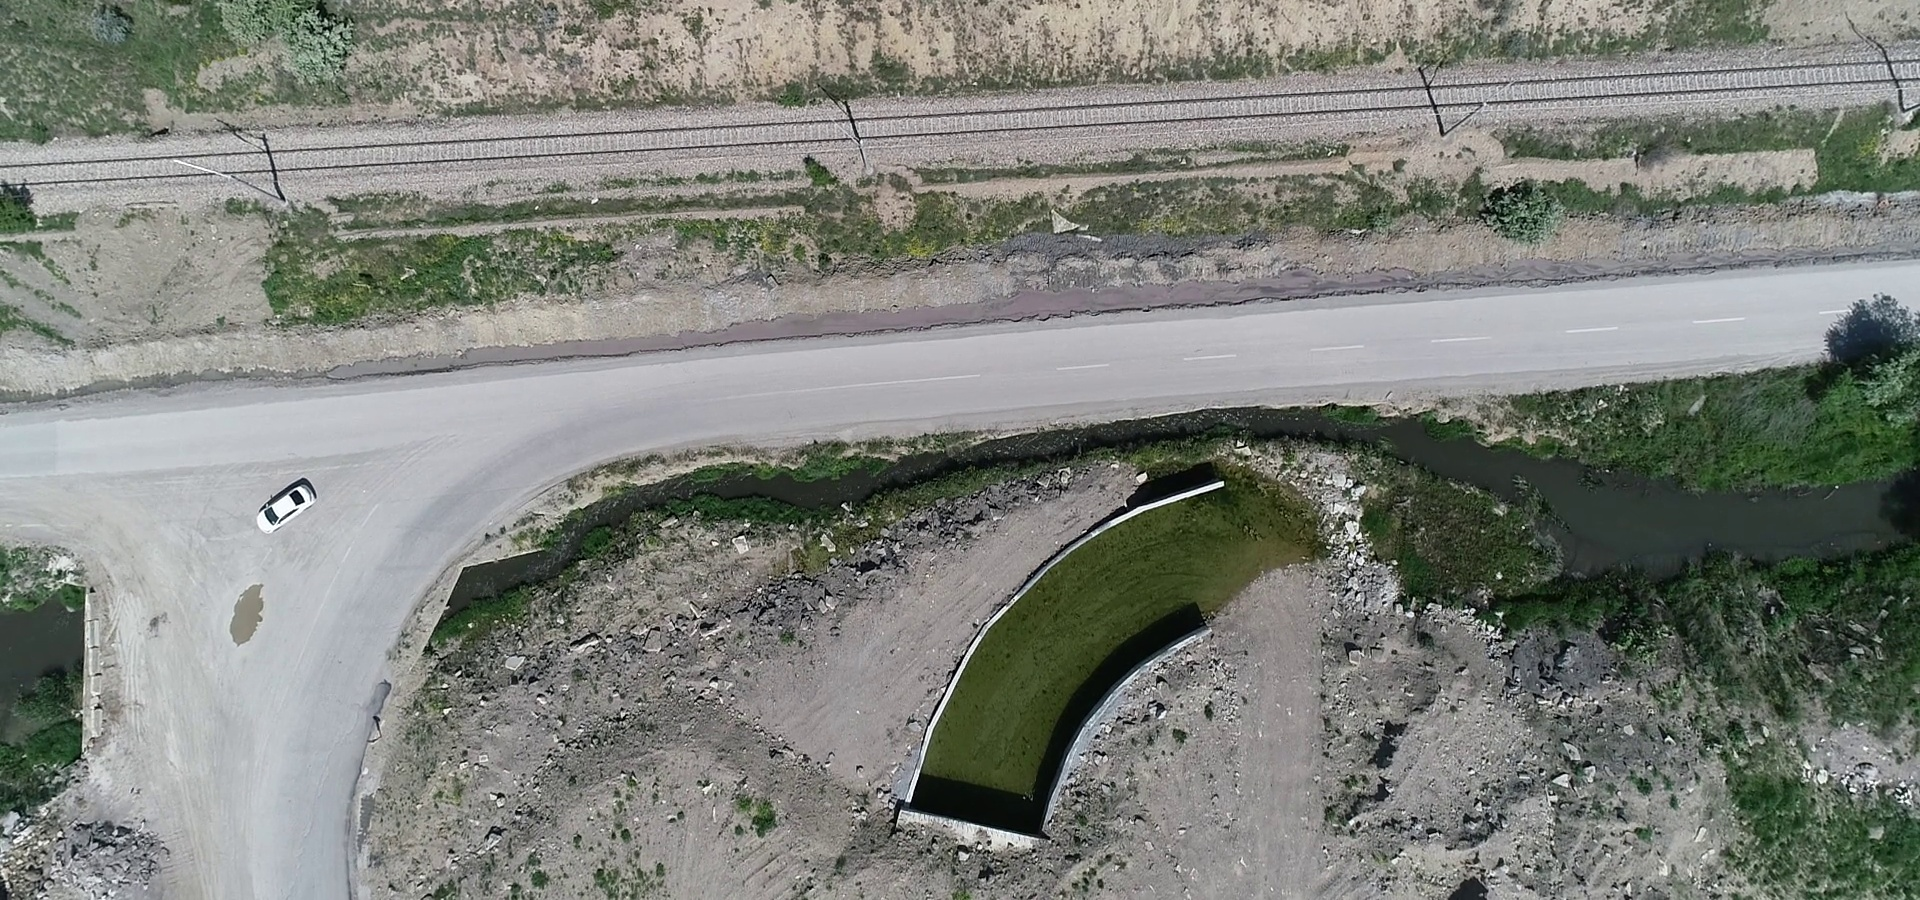araba: (256, 473, 318, 538)
